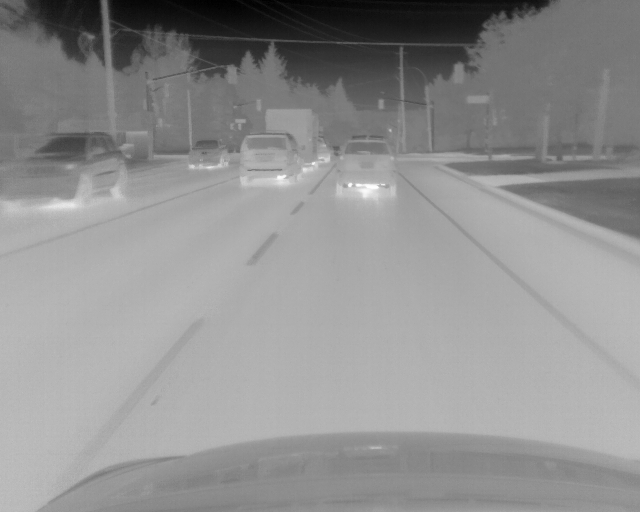car: (7, 128, 129, 208), (238, 108, 318, 184), (331, 138, 398, 197), (187, 138, 229, 171), (316, 134, 334, 164)
